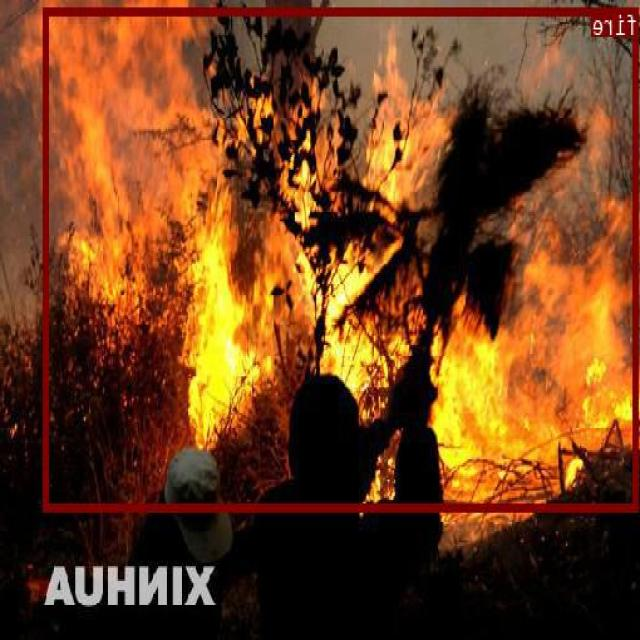fire: (44, 6, 640, 509)
